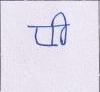i_matra: (54, 11, 68, 45)
